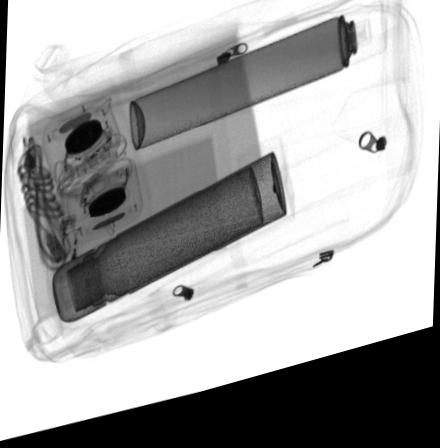Lighter: (53, 220, 79, 286)
Sprayer: (128, 19, 387, 157)
